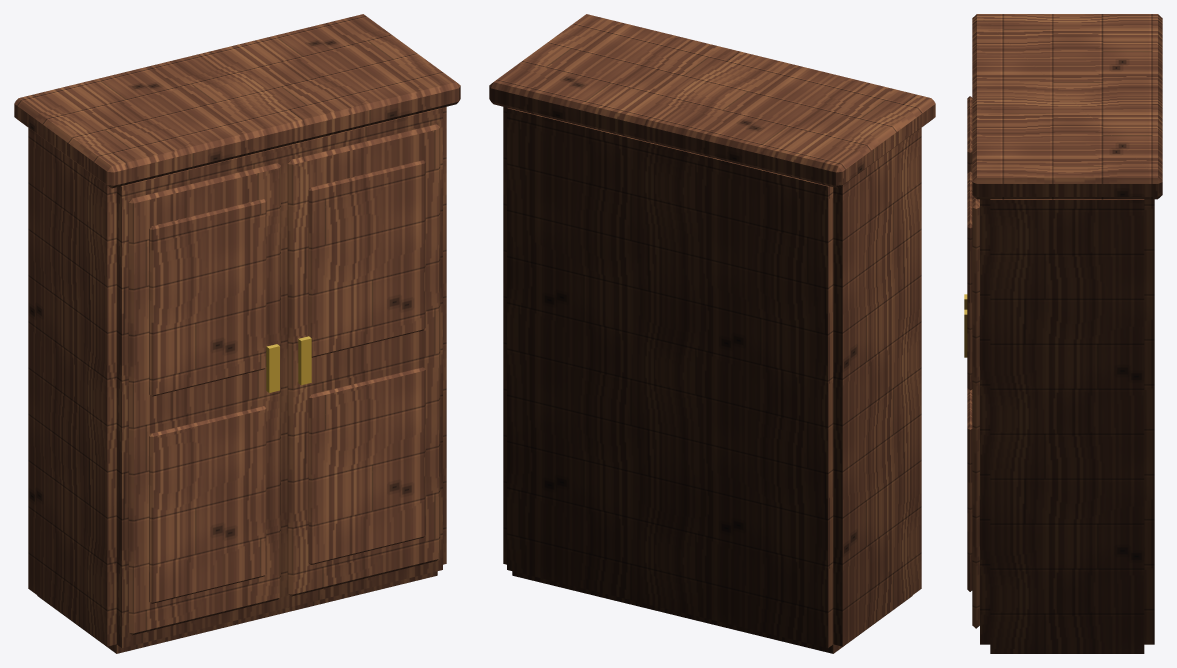
File: wardrobe.glb
3 renders of one model, left to right at view 1: azimuth 30°, elevation 25°; view 2: azimuth 150°, elevation 25°; view 3: azimuth 270°, elevation 25°, orthographic. The views are drawn at different scales.
Parts seen in each view (by area): view 1: wardrobe; view 2: wardrobe; view 3: wardrobe.
Part boxes in pixels (x1=…): wardrobe: x1=14, y1=14, x2=460, y2=653; wardrobe: x1=489, y1=14, x2=935, y2=653; wardrobe: x1=964, y1=14, x2=1162, y2=653.
Size of the model in its own units: 1 by 1.34 by 0.5.
4 materials, 4 textured.
